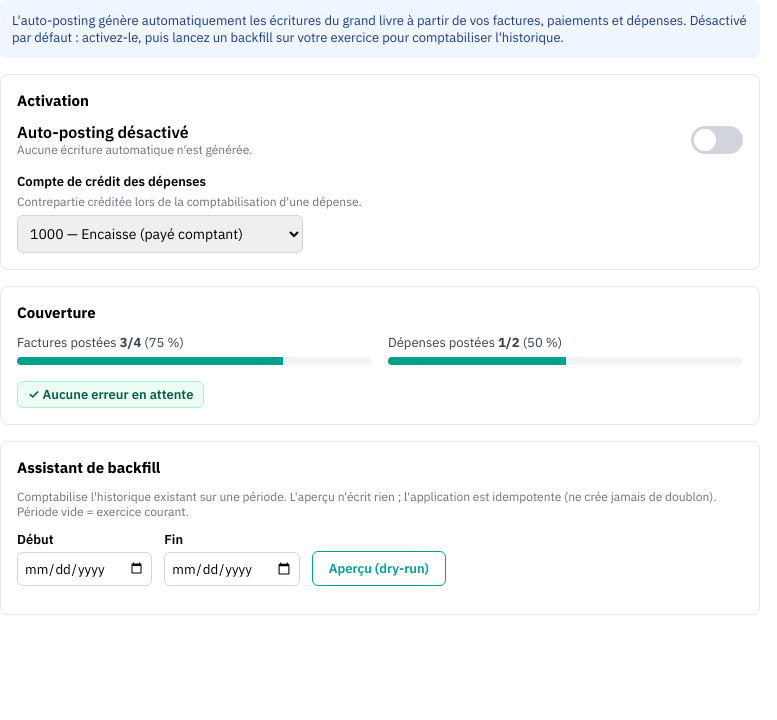
Test: AutopostTab — assistant backfill (dry-run → apply) › aperçu dry-run affiche le total et le détail, puis apply crée les écritures
Click the button "Aperçu (dry-run)": [379, 568] box [312,551,446,586]
(page scrolled)
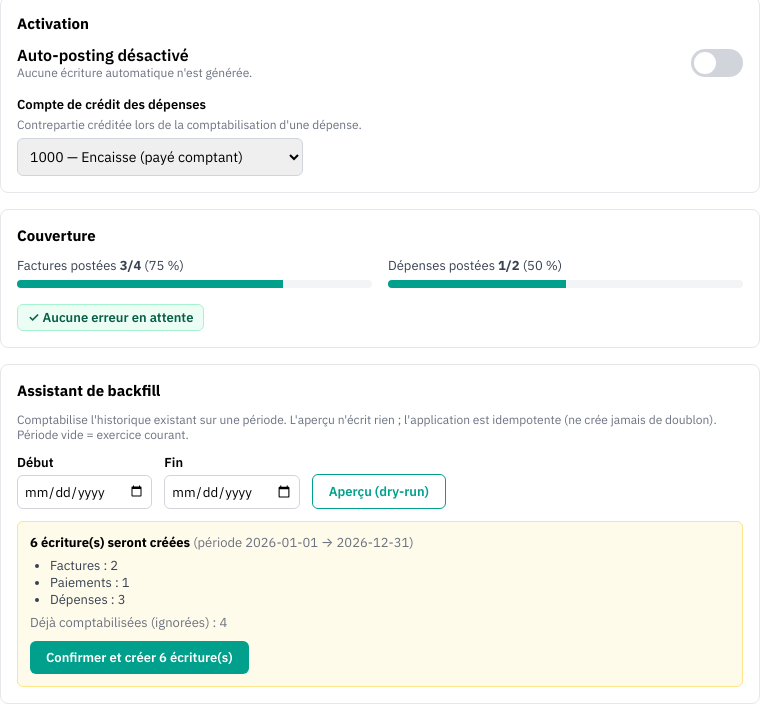
Check: the text "6 écriture(s) seront créées" is shown, box [30,534,414,551]
Check: the text "Déjà comptabilisées (ignorées) : 4" is shown, box [30,614,227,631]
Check: the button "Confirmer et créer 6 écriture(s)" is shown
Click the button "Confirmer et créer 6 écriture(s)": [139, 658] box [30,641,249,674]
(page scrolled)
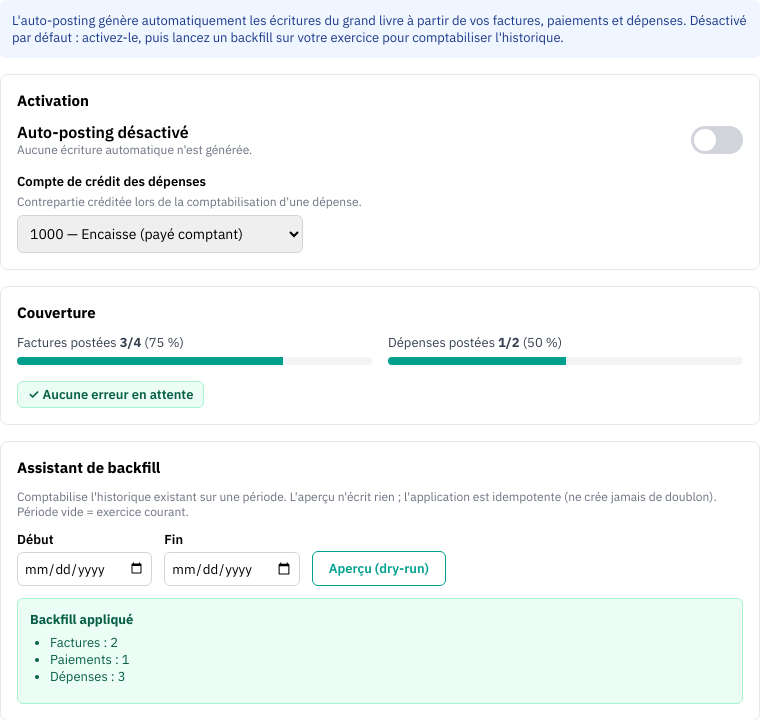
Check: the text "Backfill appliqué" is shown, box [30,611,133,628]
